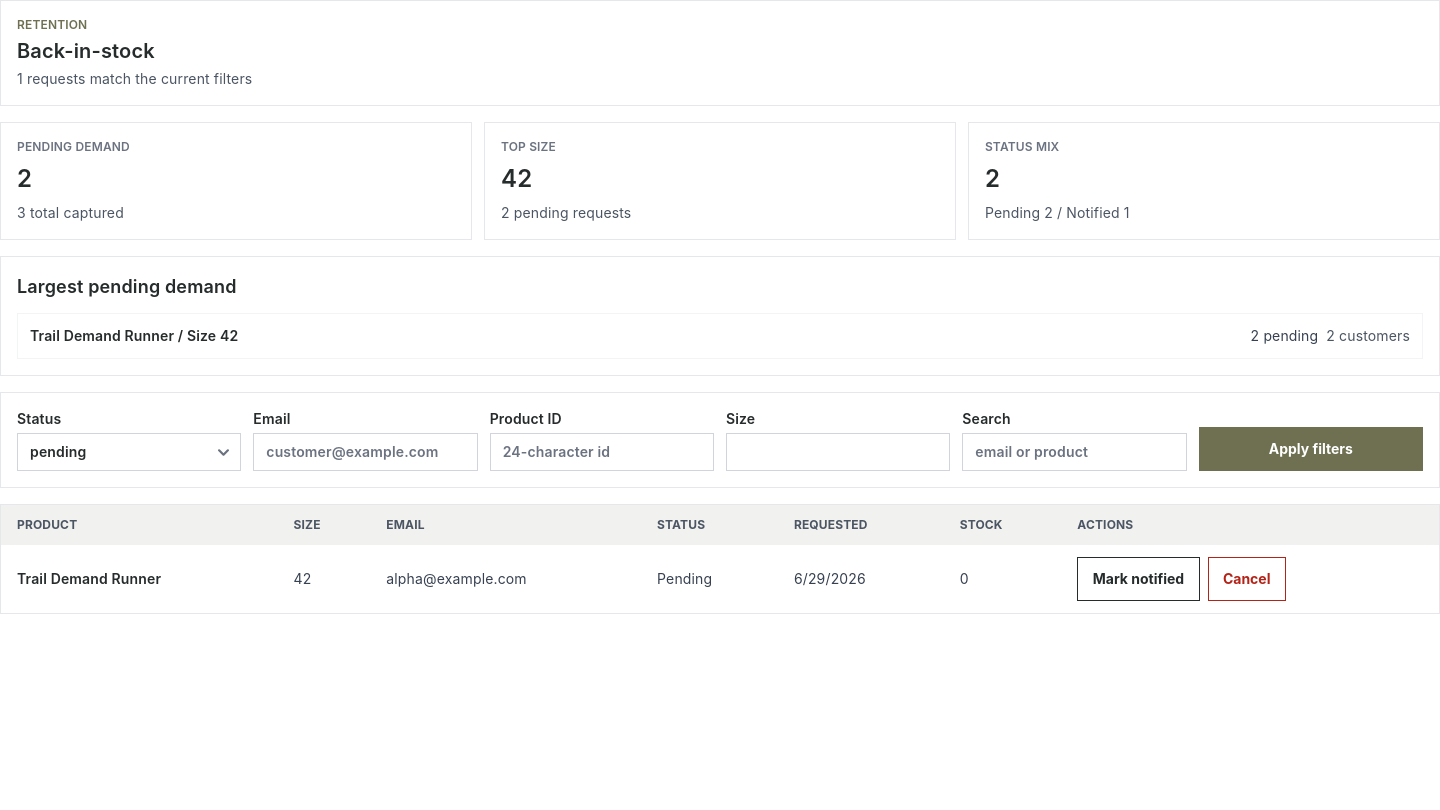
Test: marks a request notified and refreshes demand
Click the button "Mark notified": [1138, 579] box [1077,557,1200,601]
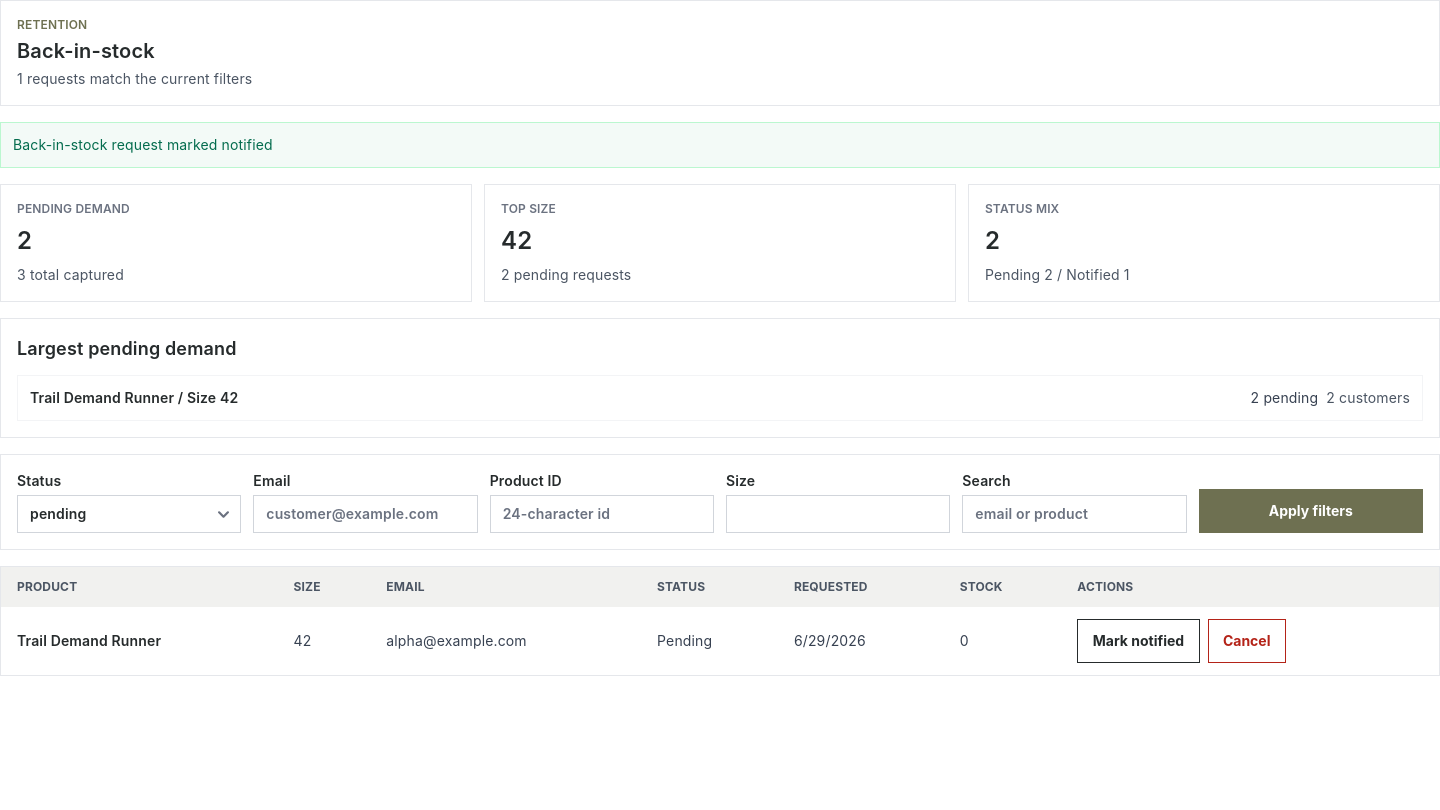
Now the text "Back-in-stock request marked notified" is shown, box [0,122,1439,168]
